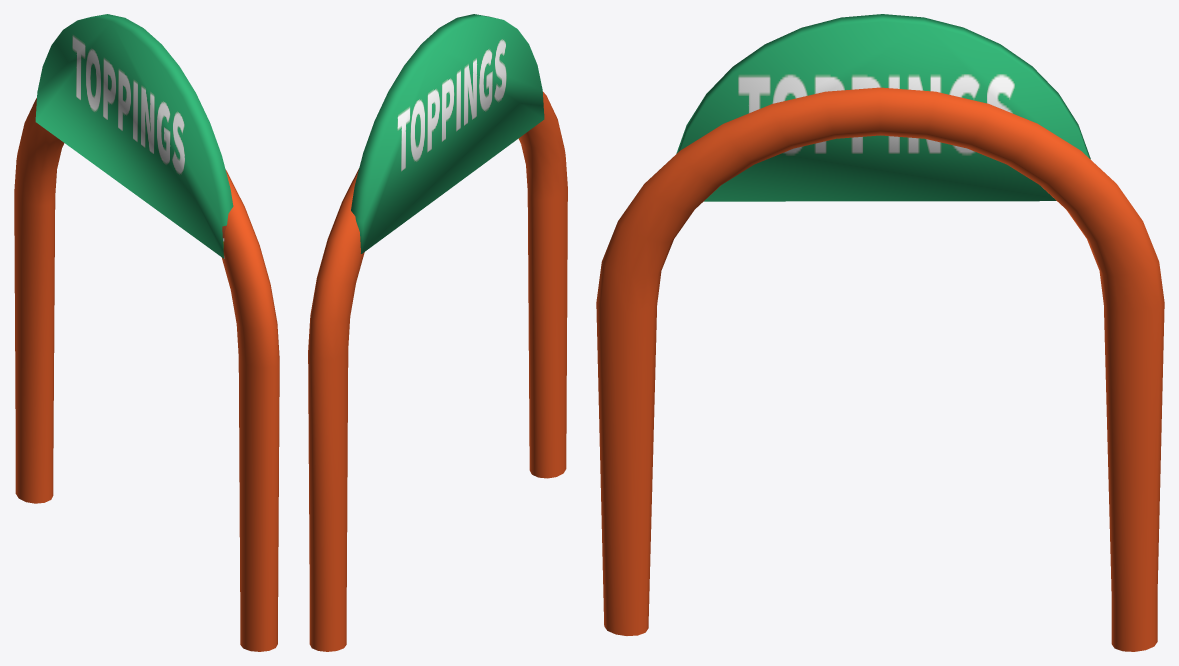
File: TOPPINGS.fbx
The picture shows the model from 3 angles, left to right: view 1: azimuth 30°, elevation 25°; view 2: azimuth 150°, elevation 25°; view 3: azimuth 270°, elevation 25°; orthographic projection. The views are drawn at different scales.
Visible parts, largest first — view 1: Circle.005; view 2: Circle.005; view 3: Circle.005.
Boxes of the visible parts, left/top/right/bottom form: Circle.005: left=14, top=14, right=279, bottom=651; Circle.005: left=308, top=14, right=567, bottom=651; Circle.005: left=596, top=14, right=1164, bottom=651.
Size of the model in its own units: 38.35 by 612 by 507.
Materials: 2 (2 with a texture image).
